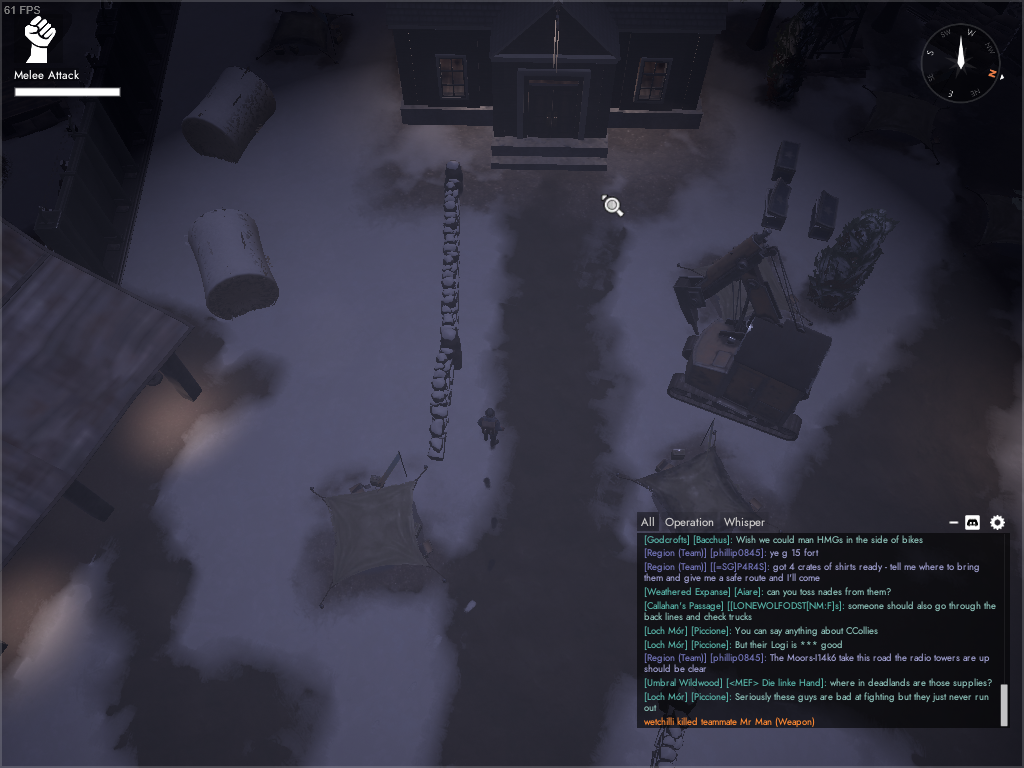foxhole: (612, 417, 786, 567), (307, 449, 449, 608), (844, 84, 947, 166)
player: (476, 406, 503, 451)
scv: (665, 228, 834, 444)
storage_box: (806, 189, 843, 244), (761, 181, 791, 230), (771, 138, 801, 183)
